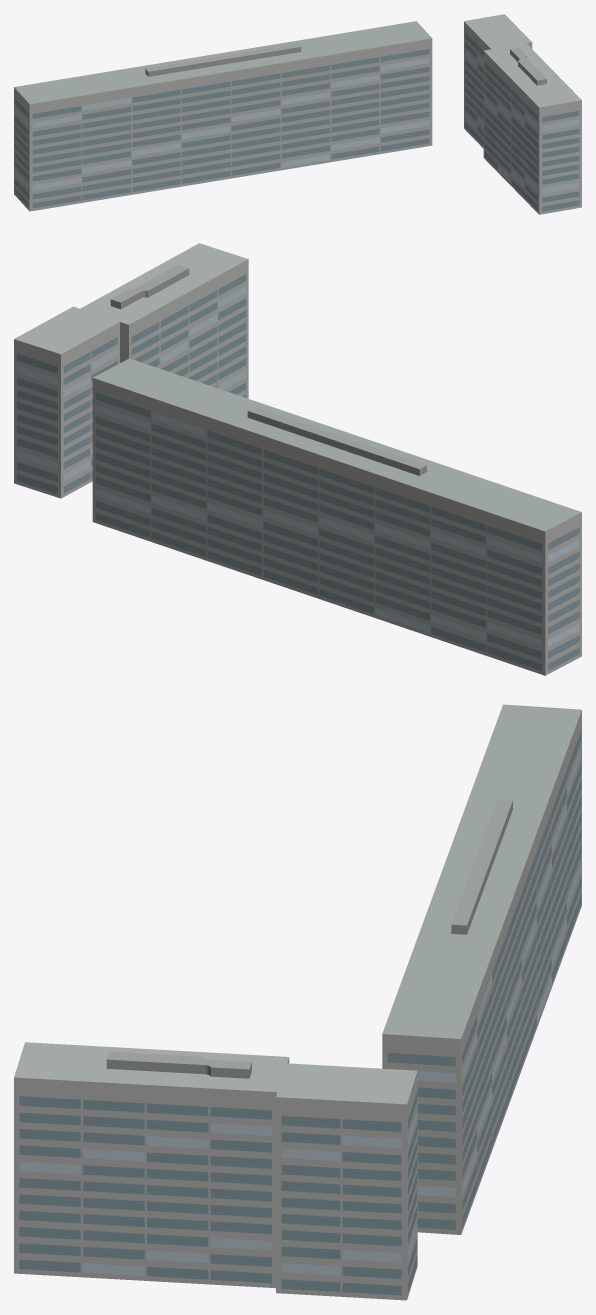
The model's file is apt-a13920102.glb.
The picture shows the model from 3 angles, top to bottom: view 1: azimuth 30°, elevation 25°; view 2: azimuth 150°, elevation 25°; view 3: azimuth 270°, elevation 25°; orthographic projection. The views are drawn at different scales.
Parts seen in each view (by area): view 1: apt-a13920102; view 2: apt-a13920102; view 3: apt-a13920102.
Boxes of the visible parts, bbox=[...] form: apt-a13920102: bbox=[14, 14, 581, 214]; apt-a13920102: bbox=[14, 243, 581, 675]; apt-a13920102: bbox=[14, 704, 581, 1300].
Size of the model in its own units: 142 by 34 by 85.26.
